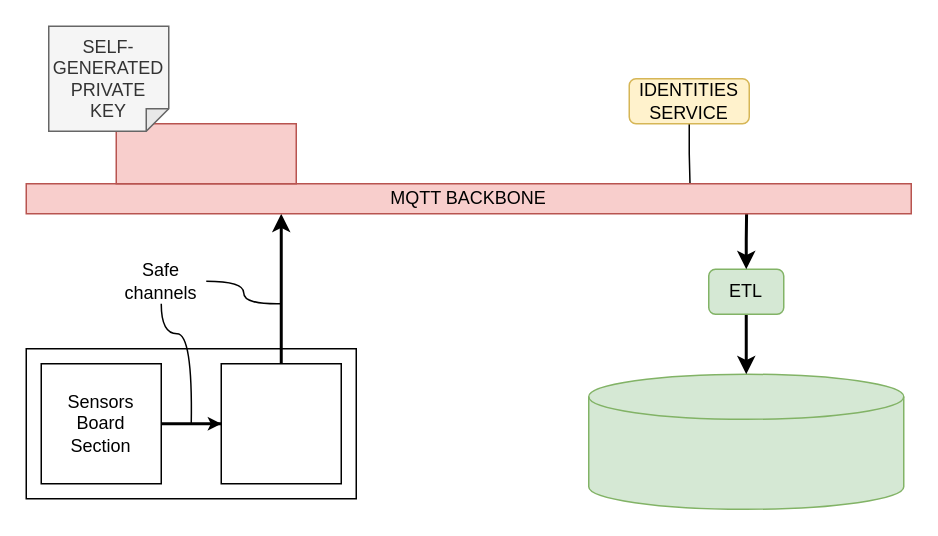
Some shapes in this 938 by 536 pixel diagram are drawn without their labels. The centre of each missing label's shape, as x and y in pixels:
"Master Board Section" belongs at [280,423].
"Persistent Storage" belongs at [745,441].
"TIME-MARK PLUGIN" belongs at [205,153].
